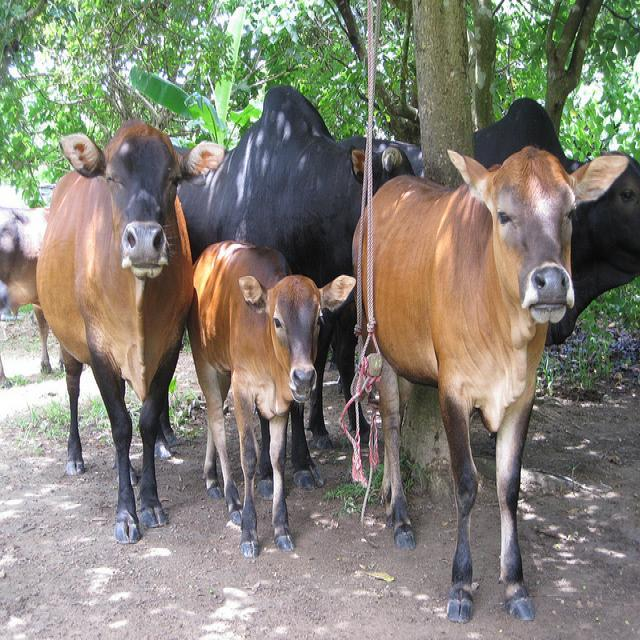cow: (353, 144, 630, 621), (180, 84, 416, 451), (33, 120, 226, 541), (383, 95, 639, 345), (184, 245, 359, 559), (0, 209, 54, 383)
